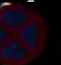No Stopping: (0, 3, 46, 64)
